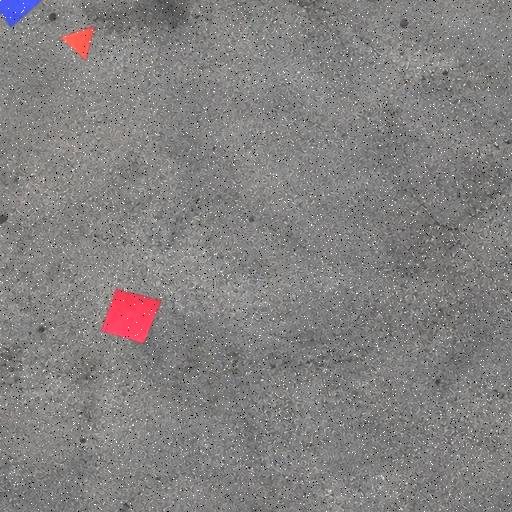RED_SQUARE: (101, 288, 162, 344)
